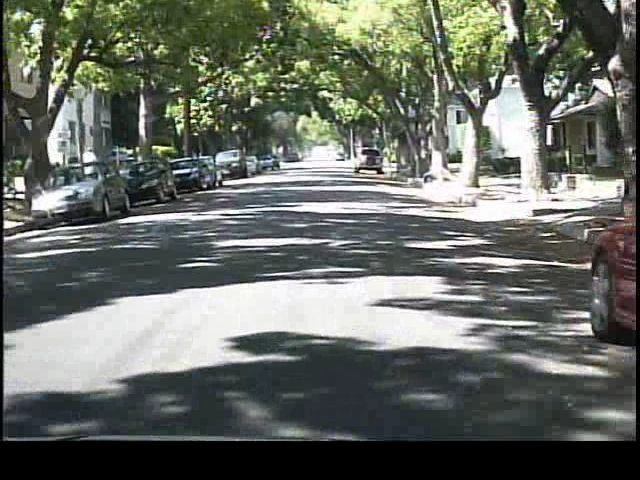person: (78, 144, 104, 196)
